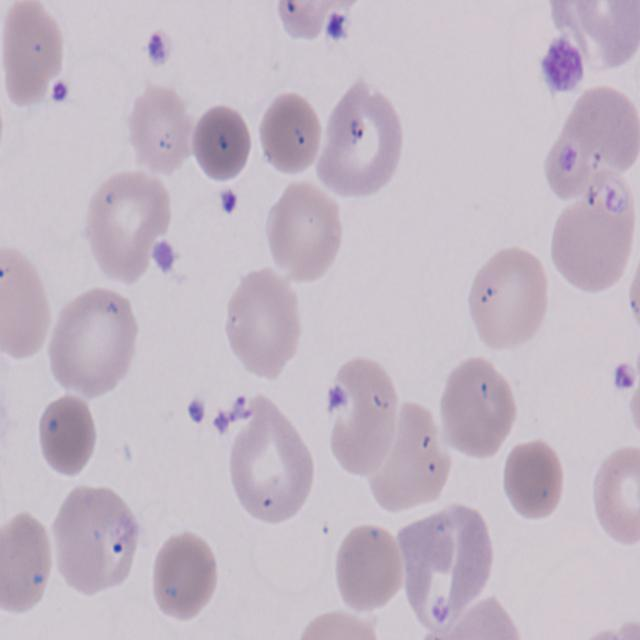Platelets: (217, 184, 243, 220)
RBC: (546, 74, 636, 240), (52, 478, 145, 599), (48, 282, 142, 400), (226, 402, 314, 528), (316, 74, 403, 196), (548, 178, 636, 296), (320, 349, 400, 476), (83, 170, 168, 286), (465, 246, 549, 358), (222, 270, 302, 386), (266, 178, 346, 289), (438, 355, 518, 463), (0, 2, 63, 107), (125, 84, 193, 170), (587, 441, 640, 550), (0, 512, 53, 618), (0, 256, 52, 361), (285, 607, 388, 640)
Spherocyte: (330, 520, 406, 614), (144, 532, 218, 624), (253, 94, 325, 180), (36, 392, 102, 479), (498, 444, 567, 524), (190, 100, 253, 182)
WBC: (521, 0, 640, 84)
